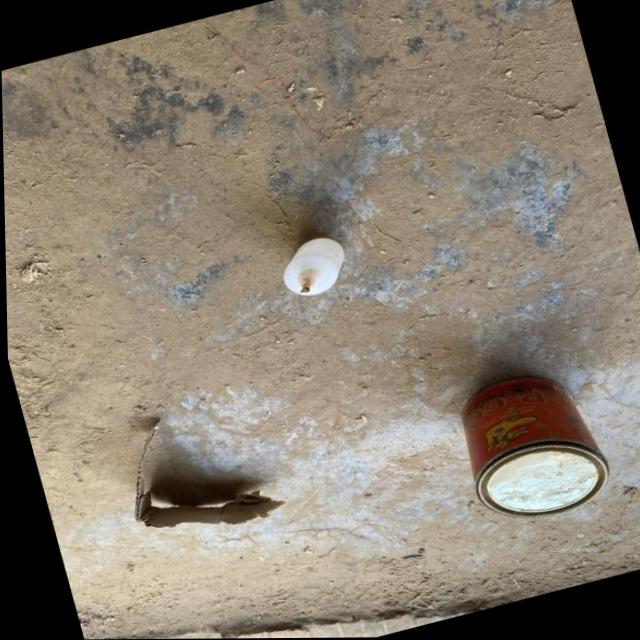clothes: (431, 353, 623, 542)
food: (90, 385, 305, 564)
leaf: (245, 220, 366, 314)
